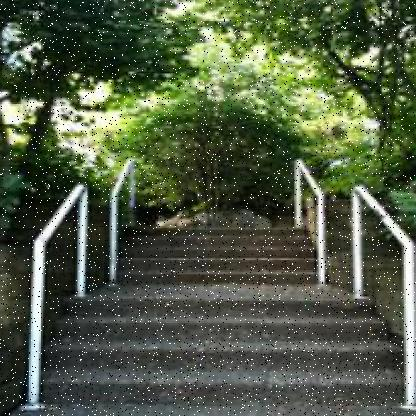stair_up: (58, 225, 416, 396)
